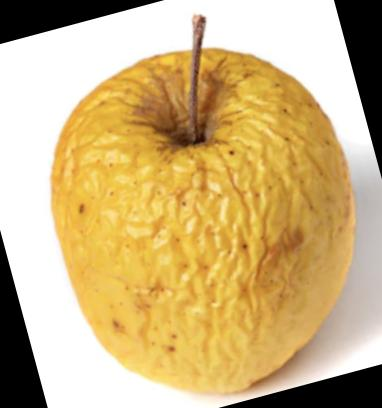Banana: (55, 47, 349, 394)
